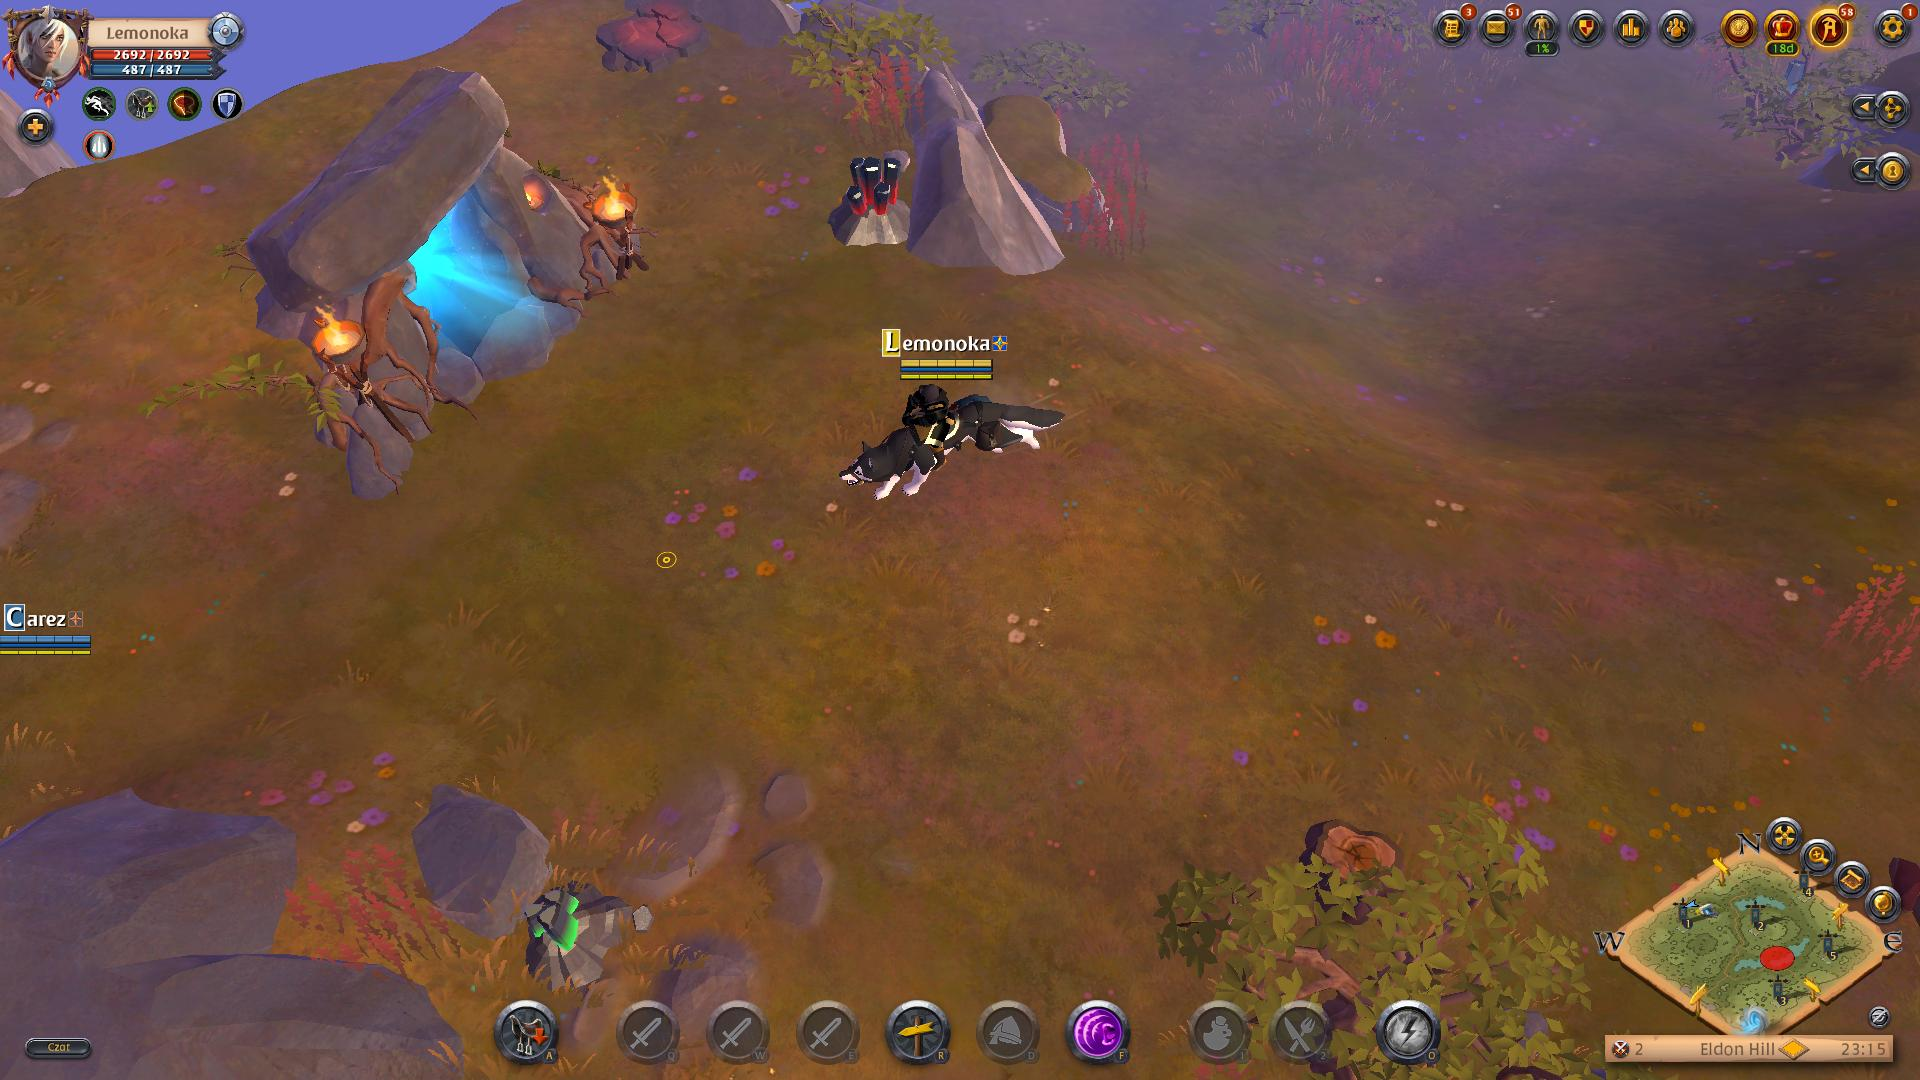ore tier 3: (512, 880, 628, 992)
ore tier 5: (823, 146, 918, 253)
